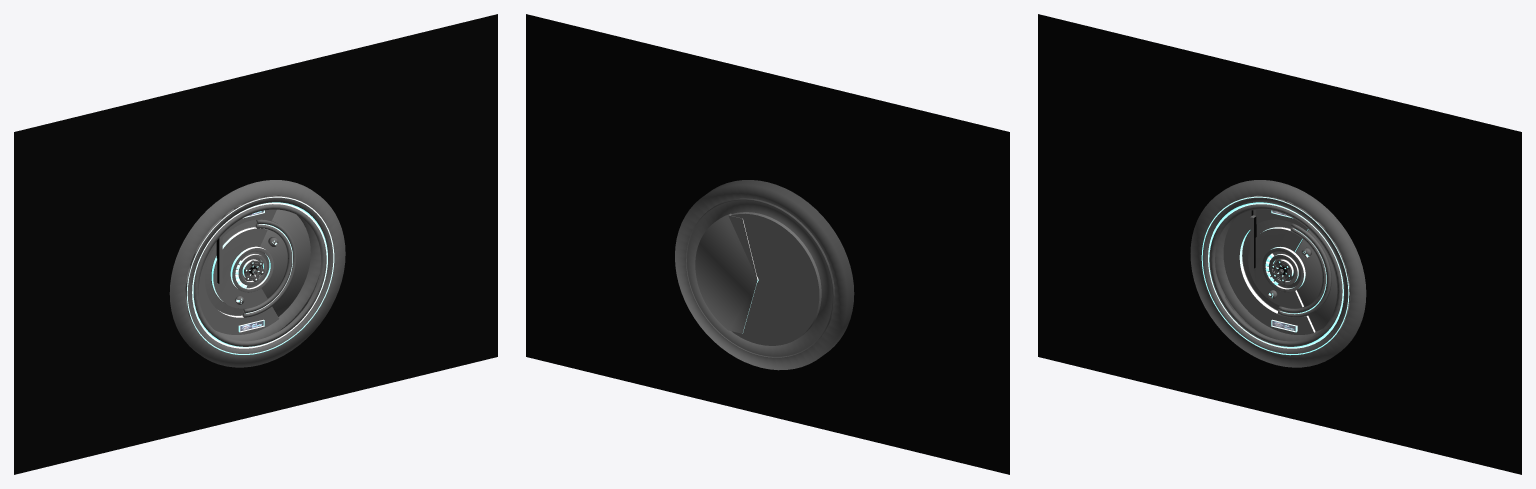
File: Door1BakedReady.glb
3 views of the same model, side by side, from view 1: azimuth 30°, elevation 25°; view 2: azimuth 150°, elevation 25°; view 3: azimuth 330°, elevation 25° (orthographic).
Visible parts, largest first — view 1: Plane, Contour, RightSide, LeftSide, RoletteContour, Rolette; view 2: Plane, Contour, RightSide, LeftSide; view 3: Plane, Contour, RightSide, LeftSide, RoletteContour, Rolette.
Boxes of the visible parts, x1,y1,x2,y2 form: Plane: [14, 14, 497, 474]; Contour: [169, 180, 345, 367]; RightSide: [198, 209, 279, 334]; LeftSide: [260, 209, 310, 316]; RoletteContour: [242, 219, 296, 317]; Rolette: [230, 246, 273, 292]; Plane: [526, 14, 1009, 474]; Contour: [675, 180, 854, 370]; RightSide: [731, 212, 821, 345]; LeftSide: [695, 213, 758, 333]; Plane: [1038, 14, 1521, 474]; Contour: [1190, 180, 1366, 367]; RightSide: [1223, 209, 1315, 334]; LeftSide: [1295, 229, 1337, 331]; RoletteContour: [1277, 223, 1331, 317]; Rolette: [1262, 246, 1305, 292].
Bounding box in the file's own units: 16.68 × 11.29 × 0.8897.
Materials: 5 (1 with a texture image).
